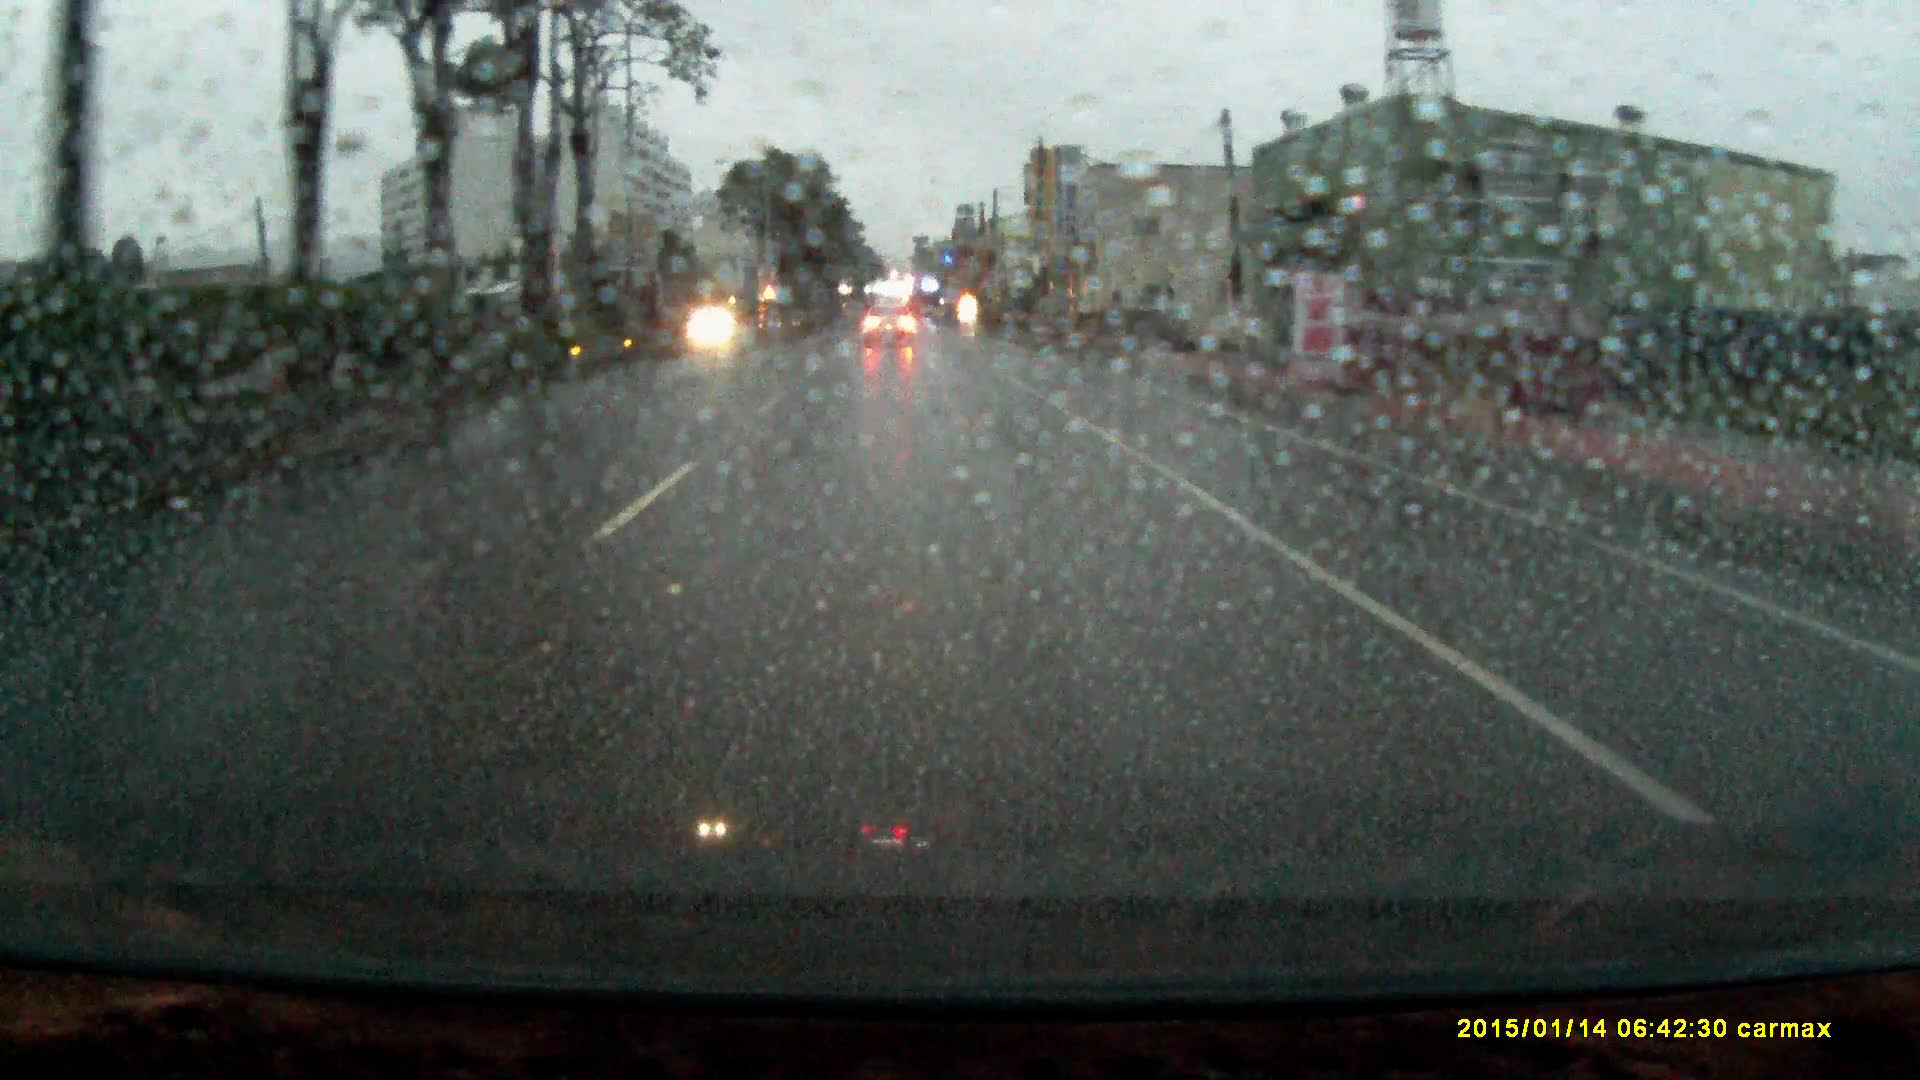vehicle: (862, 301, 916, 343)
